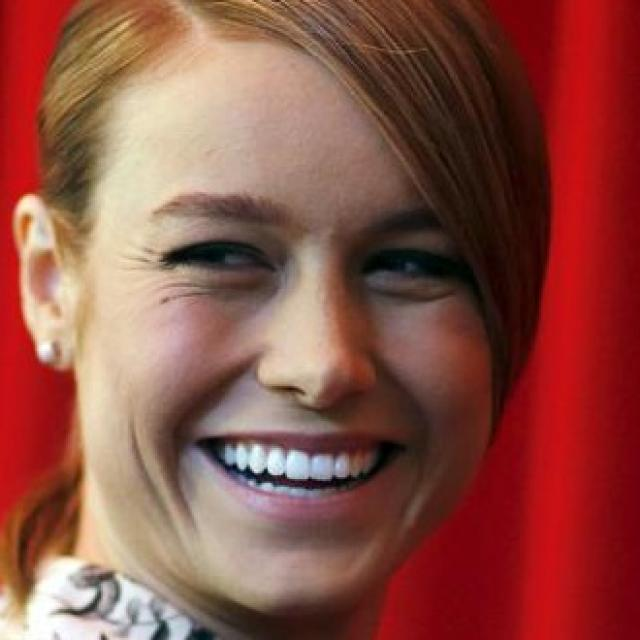Normal: (66, 40, 503, 614)
